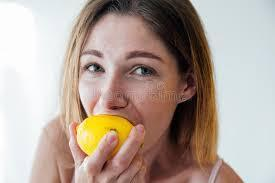lemon: (76, 115, 134, 155)
